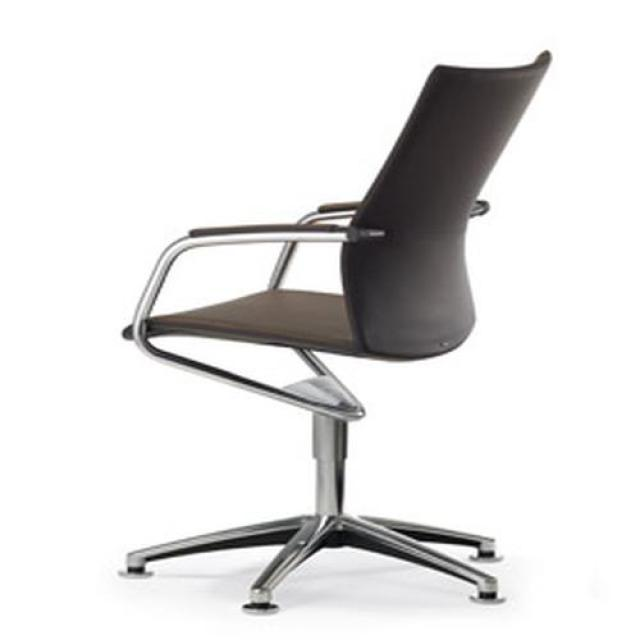swivelchair: (127, 54, 552, 617)
